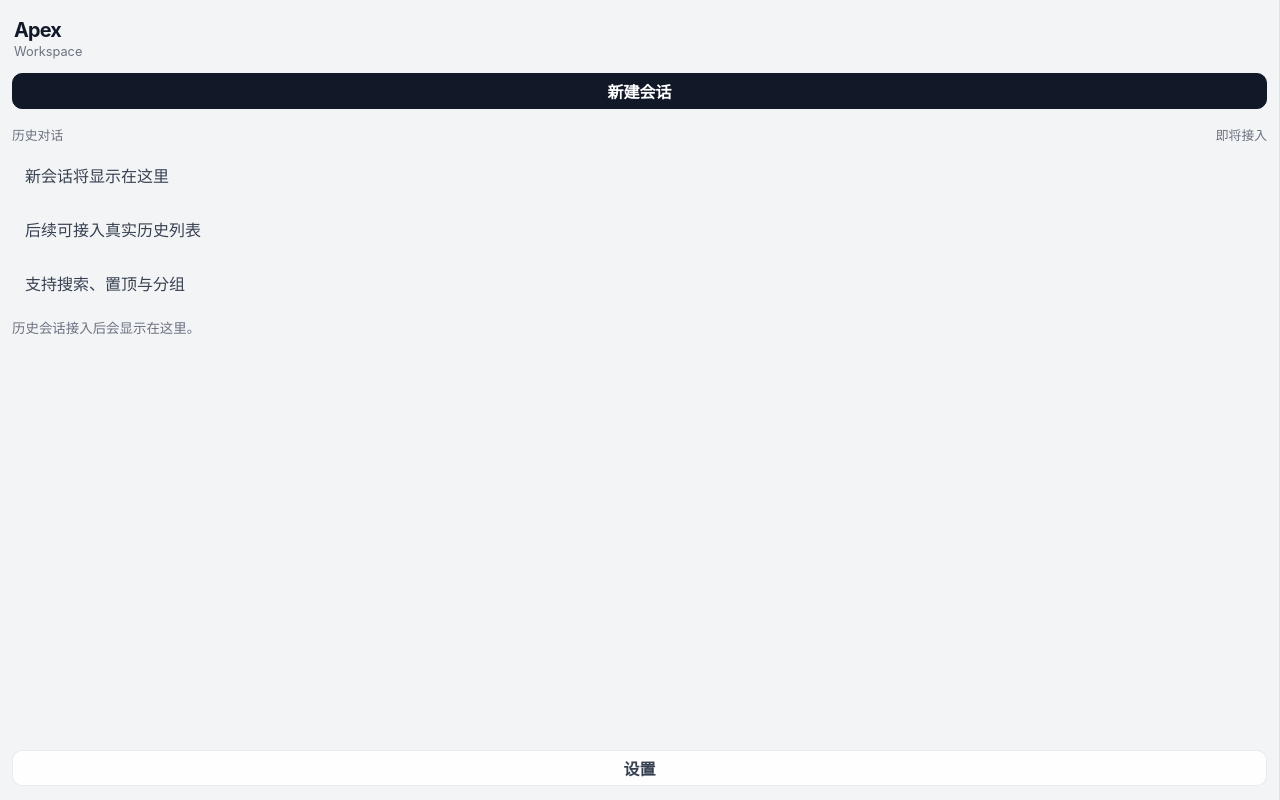
Test: WorkspaceSidebar › keeps the sidebar settings popover readable but locked once the conversation has started
Click the button with test id "sidebar-settings-trigger".
click(640, 768)  # box x1=12 y1=750 x2=1267 y2=786
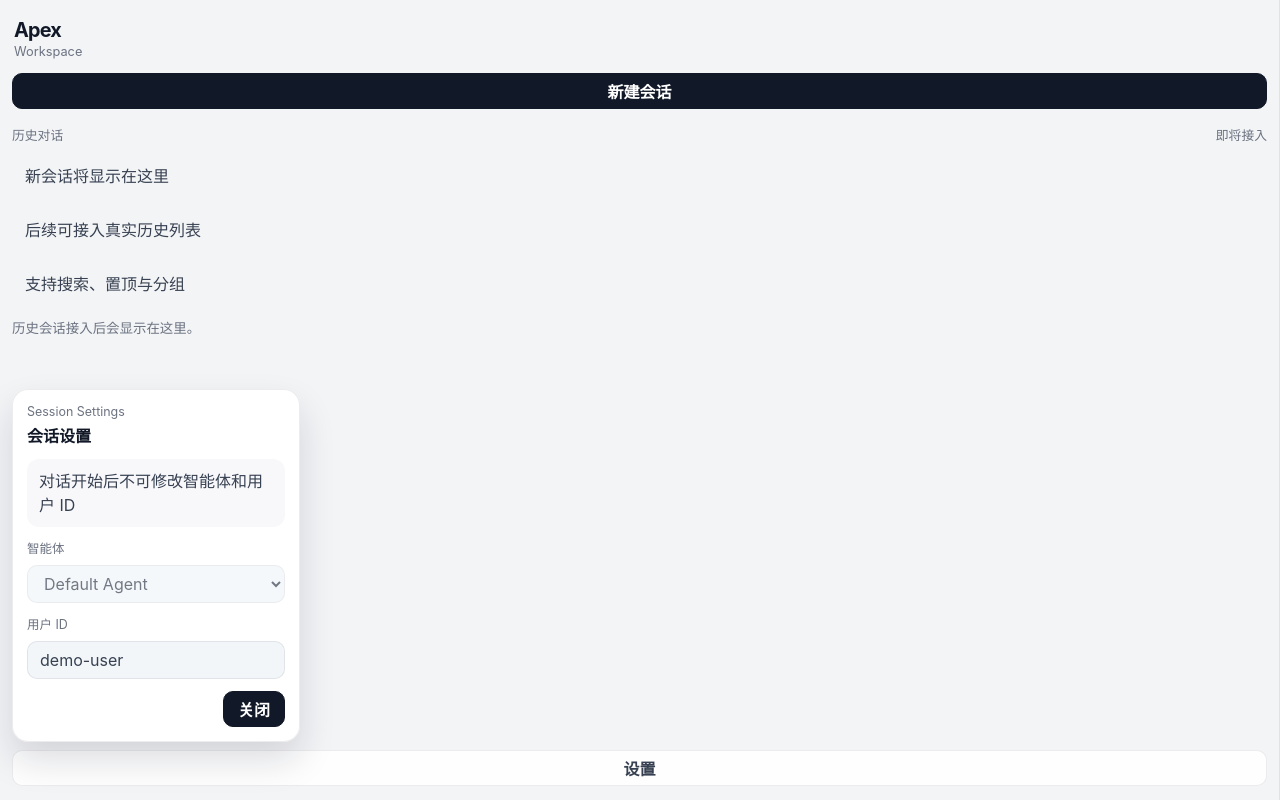
Check: the dropdown with test id "settings-agent-select" is disabled, box x1=27 y1=565 x2=285 y2=603
Check: the field with test id "settings-user-id-input" is disabled, box x1=27 y1=641 x2=285 y2=679
Check: the text "对话开始后不可修改智能体和用户 ID" is shown, box x1=27 y1=459 x2=285 y2=527
